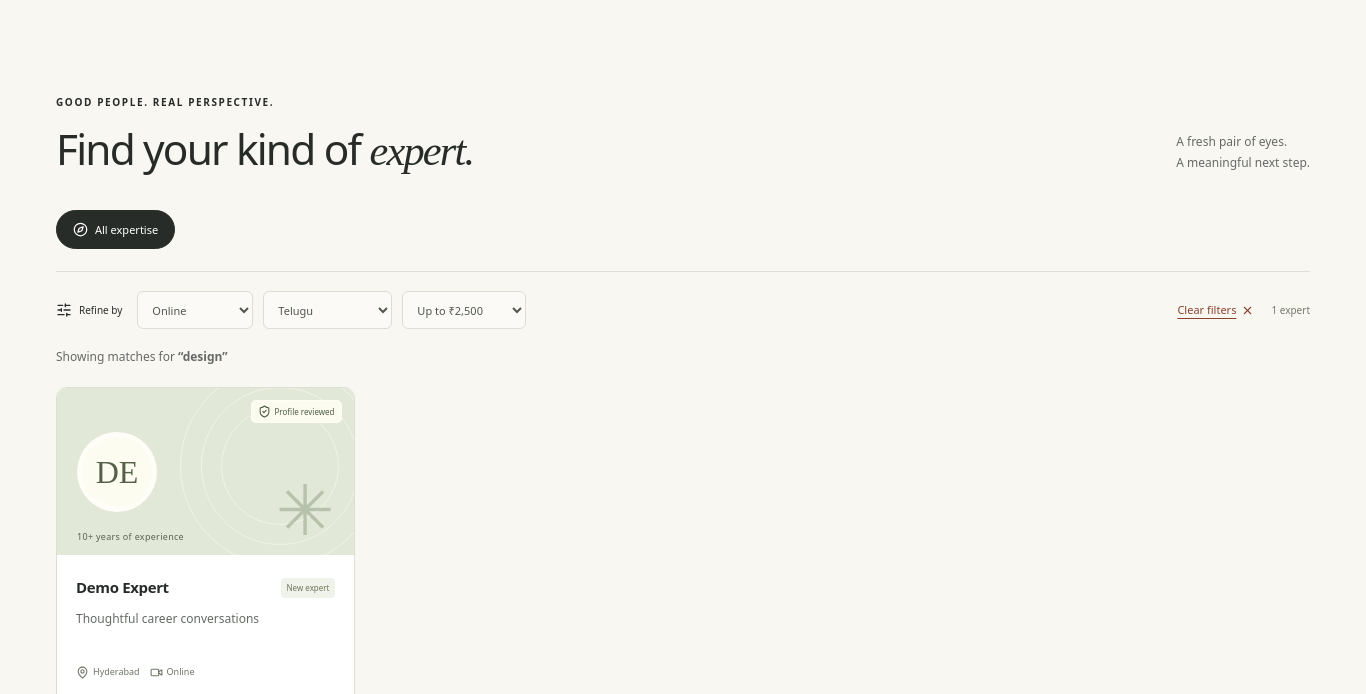
Test: customer UI › restores shareable search filters and clears the entire search
(page scrolled)
Expected: the link "Demo Expert" is shown, [76,577,169,597]
Expected: the dropdown named "Language" shows "Telugu", [263,291,392,329]
Click the button "Clear filters" at (1216, 310), box [1177,296,1254,324]
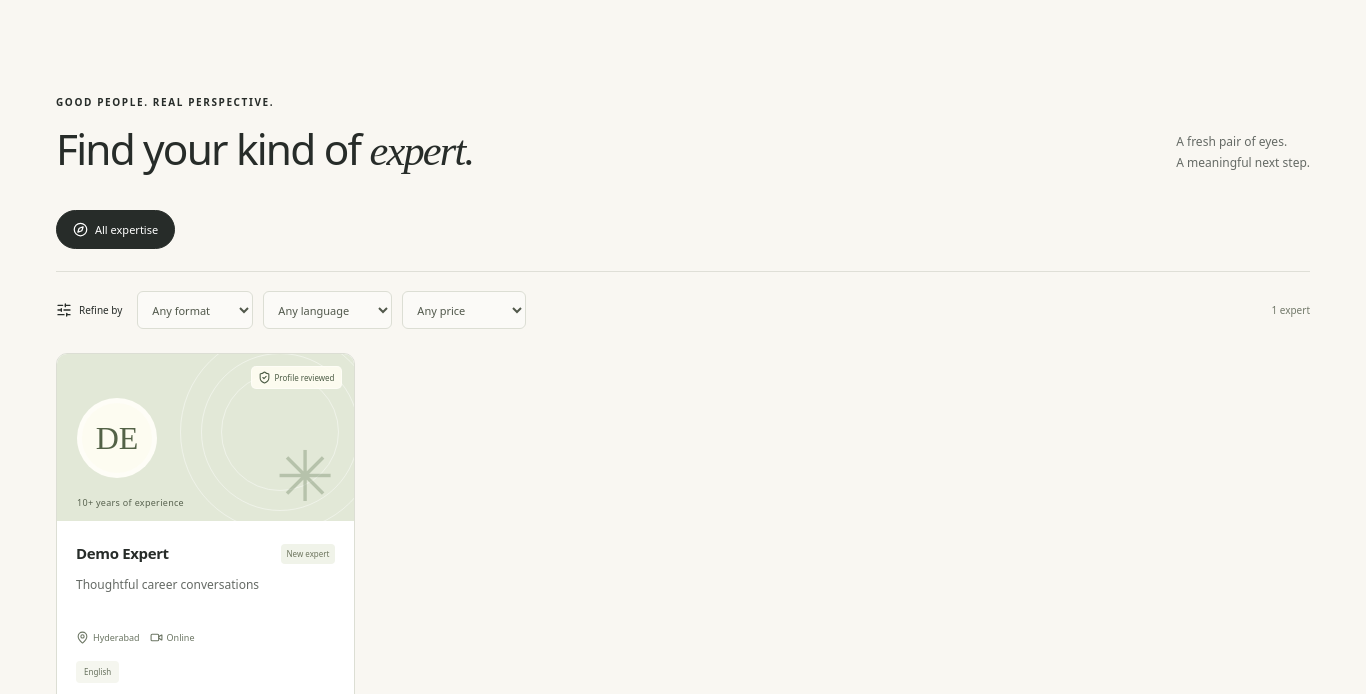
Expected: the dropdown named "Maximum price" shows "Any price", [402,291,526,329]
Expected: the dropdown named "Session format" shows "Any format", [137,291,253,329]
